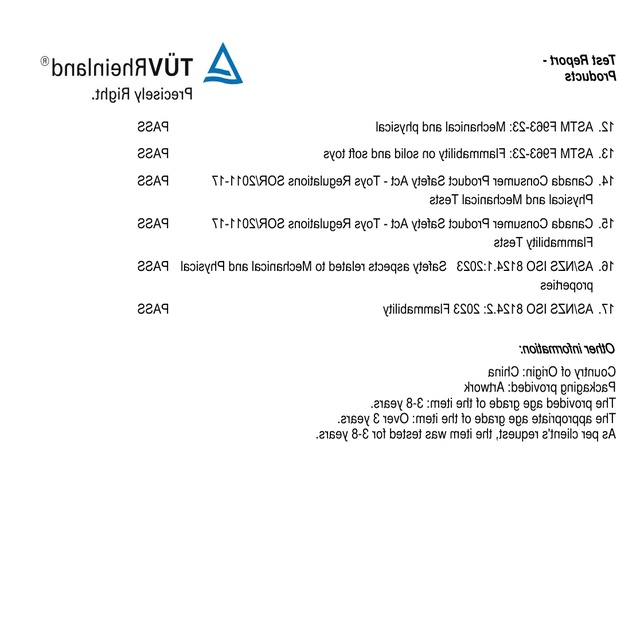tuv_rheinland: (37, 38, 245, 88)
